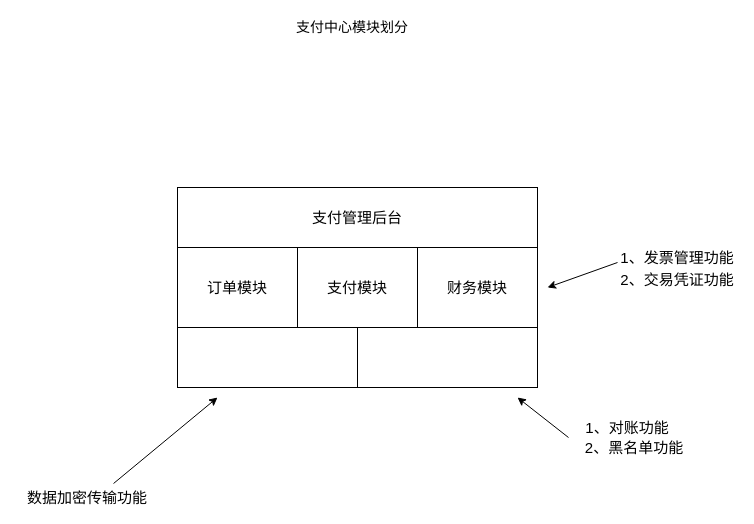
Image size: 754x524. Some labels were removed from this diagram. Each missing label, with the box of its shape:
数据安全模块: (176, 326, 358, 388)
风控模块: (356, 326, 538, 388)
